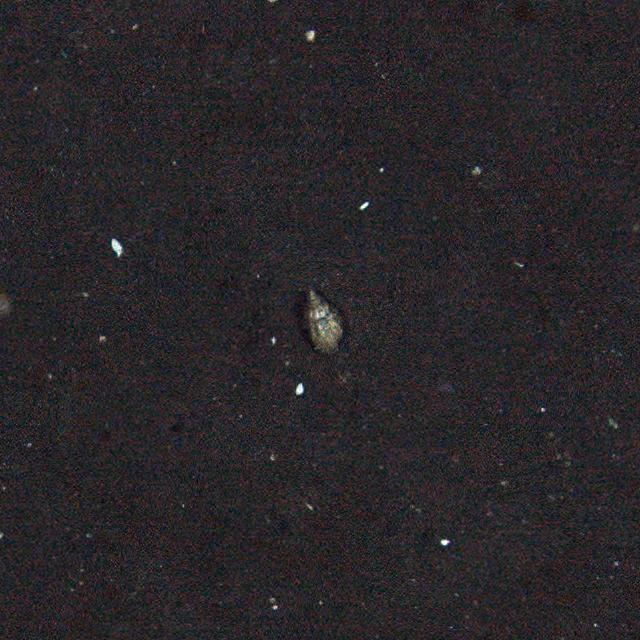whelk: (297, 288, 348, 357)
